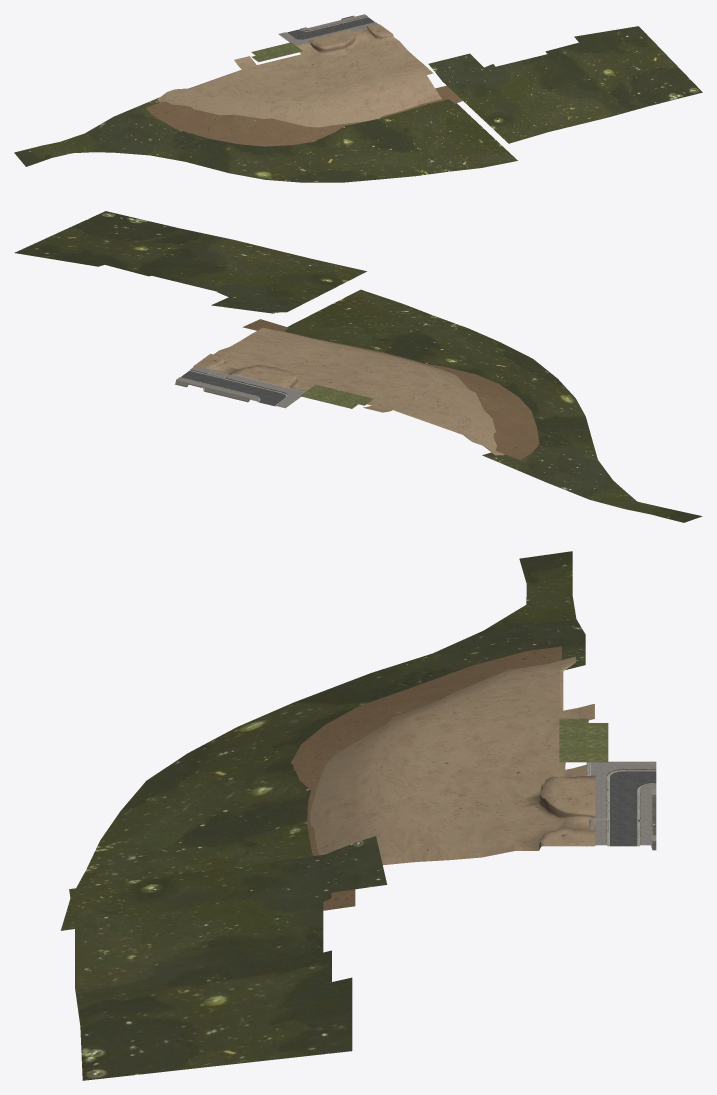
The model's file is SandyBeach_Base.fbx.
The picture shows the model from 3 angles, top to bottom: view 1: azimuth 30°, elevation 25°; view 2: azimuth 150°, elevation 25°; view 3: azimuth 270°, elevation 25°; orthographic projection. The views are drawn at different scales.
Visible parts, largest first — view 1: Sandy_Beach_STR_Base_Side_5; view 2: Sandy_Beach_STR_Base_Side_5; view 3: Sandy_Beach_STR_Base_Side_5.
Part boxes in pixels (<box>): Sandy_Beach_STR_Base_Side_5: <box>14,14,702,182</box>; Sandy_Beach_STR_Base_Side_5: <box>14,211,702,522</box>; Sandy_Beach_STR_Base_Side_5: <box>60,551,656,1080</box>.
Size of the model in its own units: 24180 by 1745 by 10925.
8 materials, 8 textured.
